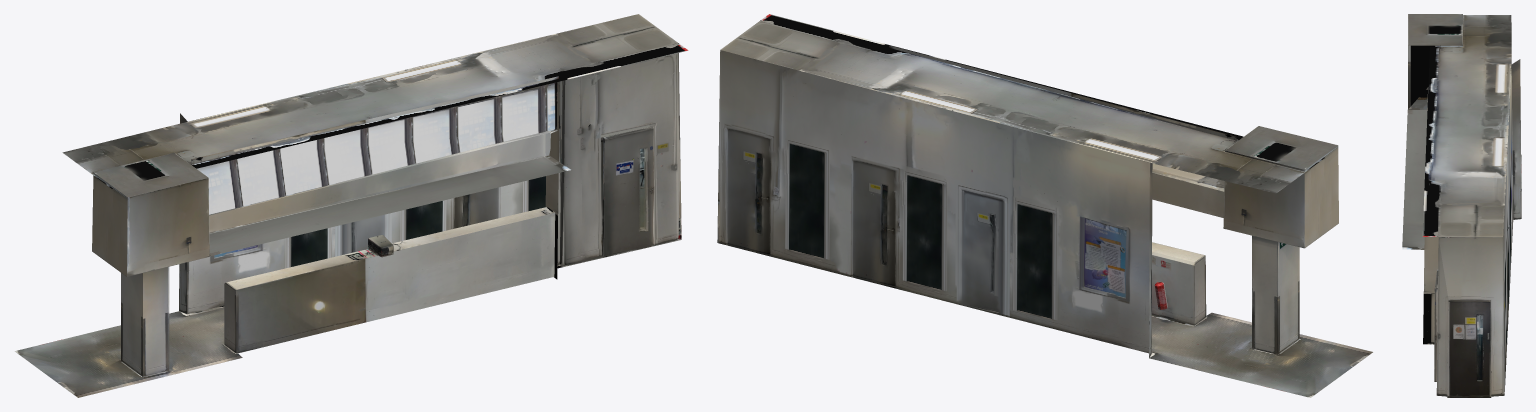
Rendered from well-lefpLP.fbx.
3 views of the same model, side by side, from view 1: azimuth 30°, elevation 25°; view 2: azimuth 150°, elevation 25°; view 3: azimuth 270°, elevation 25° (orthographic). The views are drawn at different scales.
Parts seen in each view (by area): view 1: well-lefpLP; view 2: well-lefpLP; view 3: well-lefpLP.
Boxes of the visible parts, x1,y1,x2,y2 form: well-lefpLP: (14,14,688,397); well-lefpLP: (717,14,1372,397); well-lefpLP: (1402,14,1521,397).
Size of the model in its own units: 1122 by 345 by 233.
Materials: 1 (1 with a texture image).
